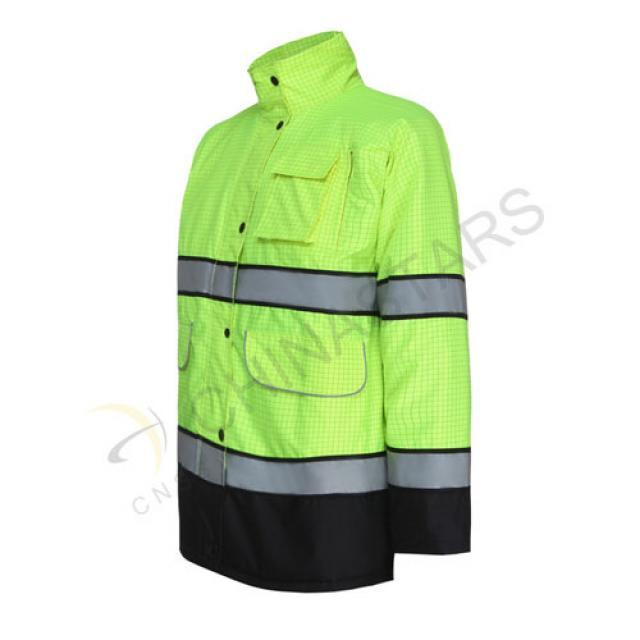reflective_jacket: (177, 50, 477, 505)
